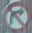Don't turn right: (2, 2, 30, 32)
